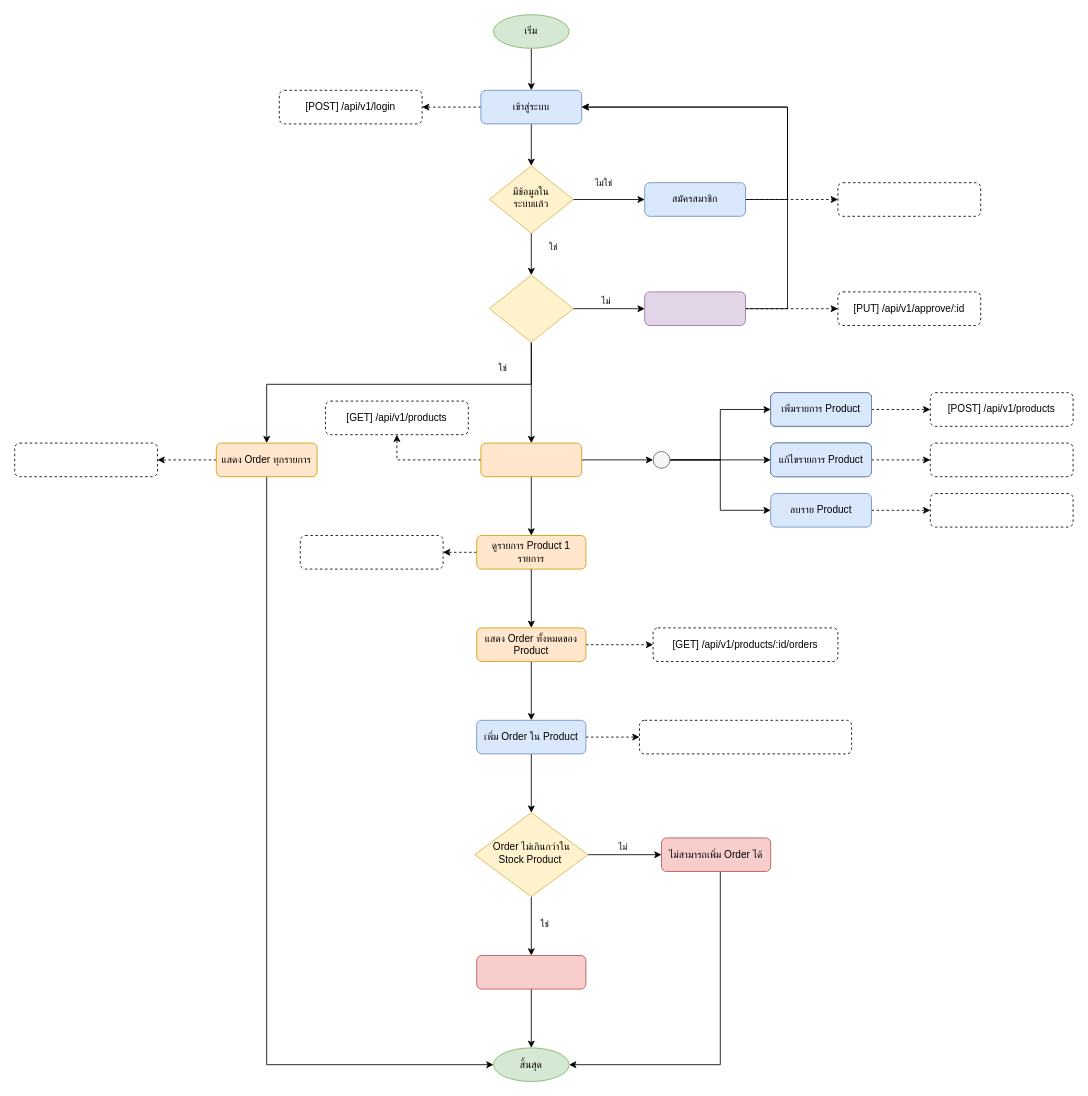
Image size: 1088x1096. Some labels were removed from this diagram. The shapes that lost their labels are listed below. From the top down, each one's centre as x and y in pixels, then its label:
At (909,199): "[POST] /api/v1/register".
At (530,308): "ได้รับการ Approve".
At (695,308): "รอ Approve".
At (86,459): "[GET] /api/v1/orders".
At (531,459): "แสดงรายการ Product ทั้งหมด".
At (1001,459): "[PUT] /api/v1/products/:id".
At (1001,510): "[DELETE] /api/v1/products/:id".
At (371,552): "[GET] /api/v1/products/:id".
At (745,736): "[POST] /api/v1/products/:id/orders".
At (531,972): "บันทึก Order".
